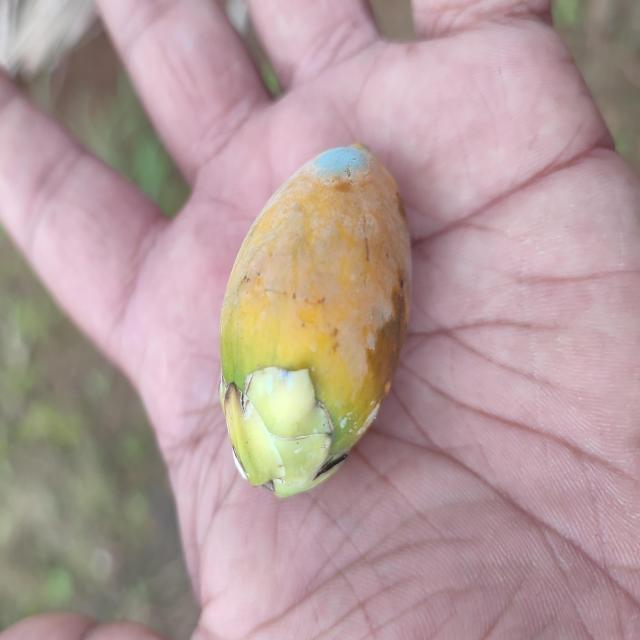good: (218, 145, 413, 501)
